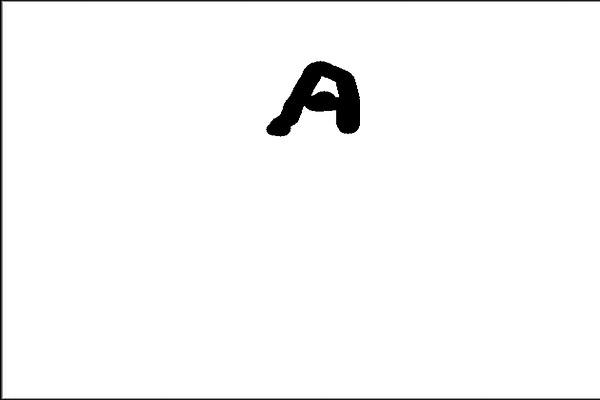A: (256, 41, 367, 152)
